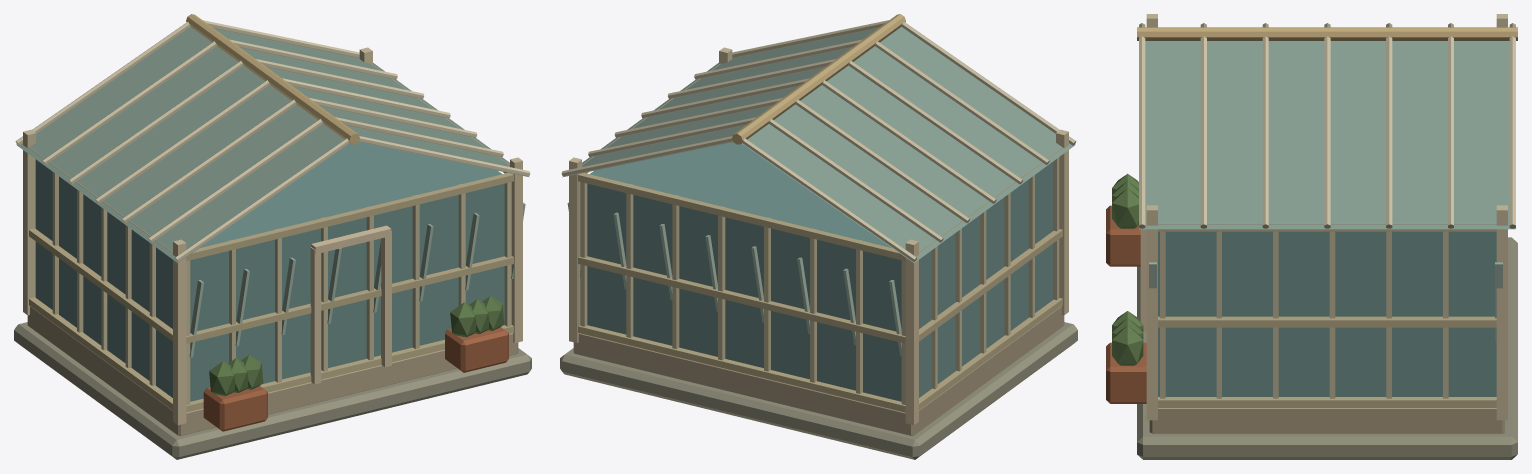
The model's file is pack-greenhouse.glb.
The picture shows the model from 3 angles, left to right: view 1: azimuth 30°, elevation 25°; view 2: azimuth 150°, elevation 25°; view 3: azimuth 270°, elevation 25°; orthographic projection. The views are drawn at different scales.
Visible parts, largest first — view 1: SculptedModel; view 2: SculptedModel; view 3: SculptedModel.
Boxes of the visible parts, x1=… form: SculptedModel: x1=14, y1=14, x2=531, y2=459; SculptedModel: x1=560, y1=14, x2=1077, y2=459; SculptedModel: x1=1106, y1=14, x2=1517, y2=459.
Bounding box in the file's own units: 4.7 × 3.57 × 4.
